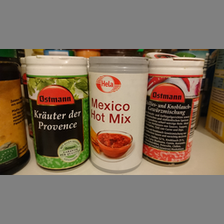spices: (24, 55, 91, 172), (88, 55, 149, 174), (142, 58, 204, 168)
